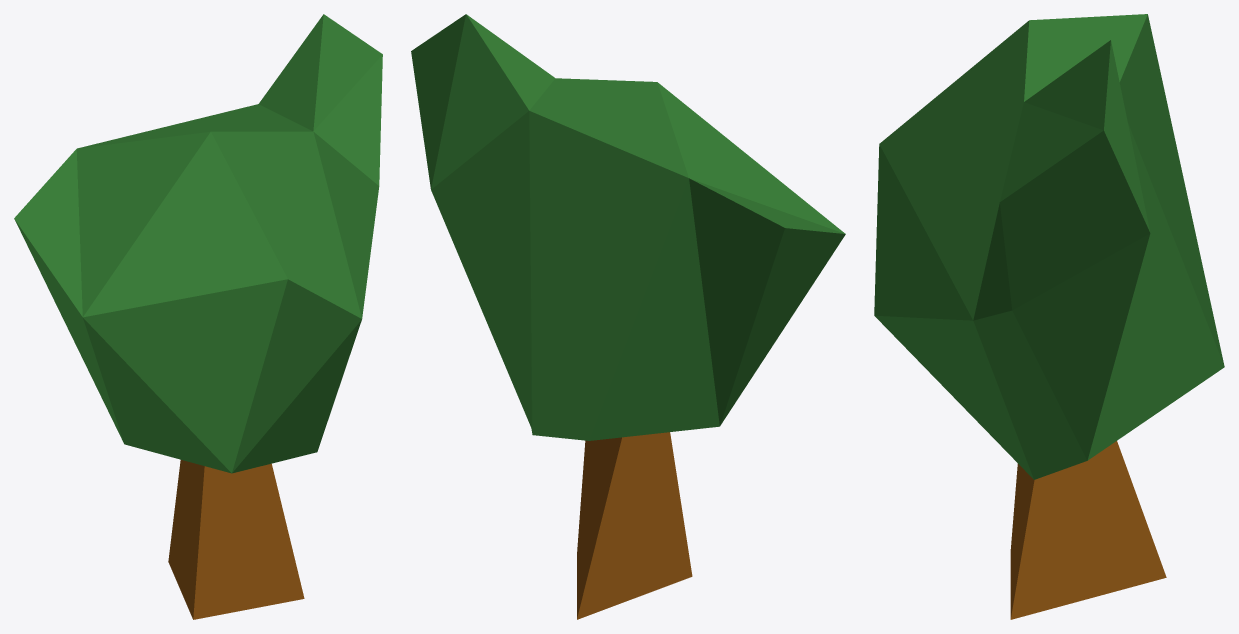
File: Tree_4.fbx
3 views of the same model, side by side, from view 1: azimuth 30°, elevation 25°; view 2: azimuth 150°, elevation 25°; view 3: azimuth 270°, elevation 25° (orthographic). The views are drawn at different scales.
Parts seen in each view (by area): view 1: LeafyTree.003; view 2: LeafyTree.003; view 3: LeafyTree.003.
Part boxes in pixels (<box>): LeafyTree.003: <box>14,14,382,619</box>; LeafyTree.003: <box>411,14,845,619</box>; LeafyTree.003: <box>874,14,1224,619</box>.
Bounding box in the file's own units: 0.727 × 1.02 × 0.5289.
